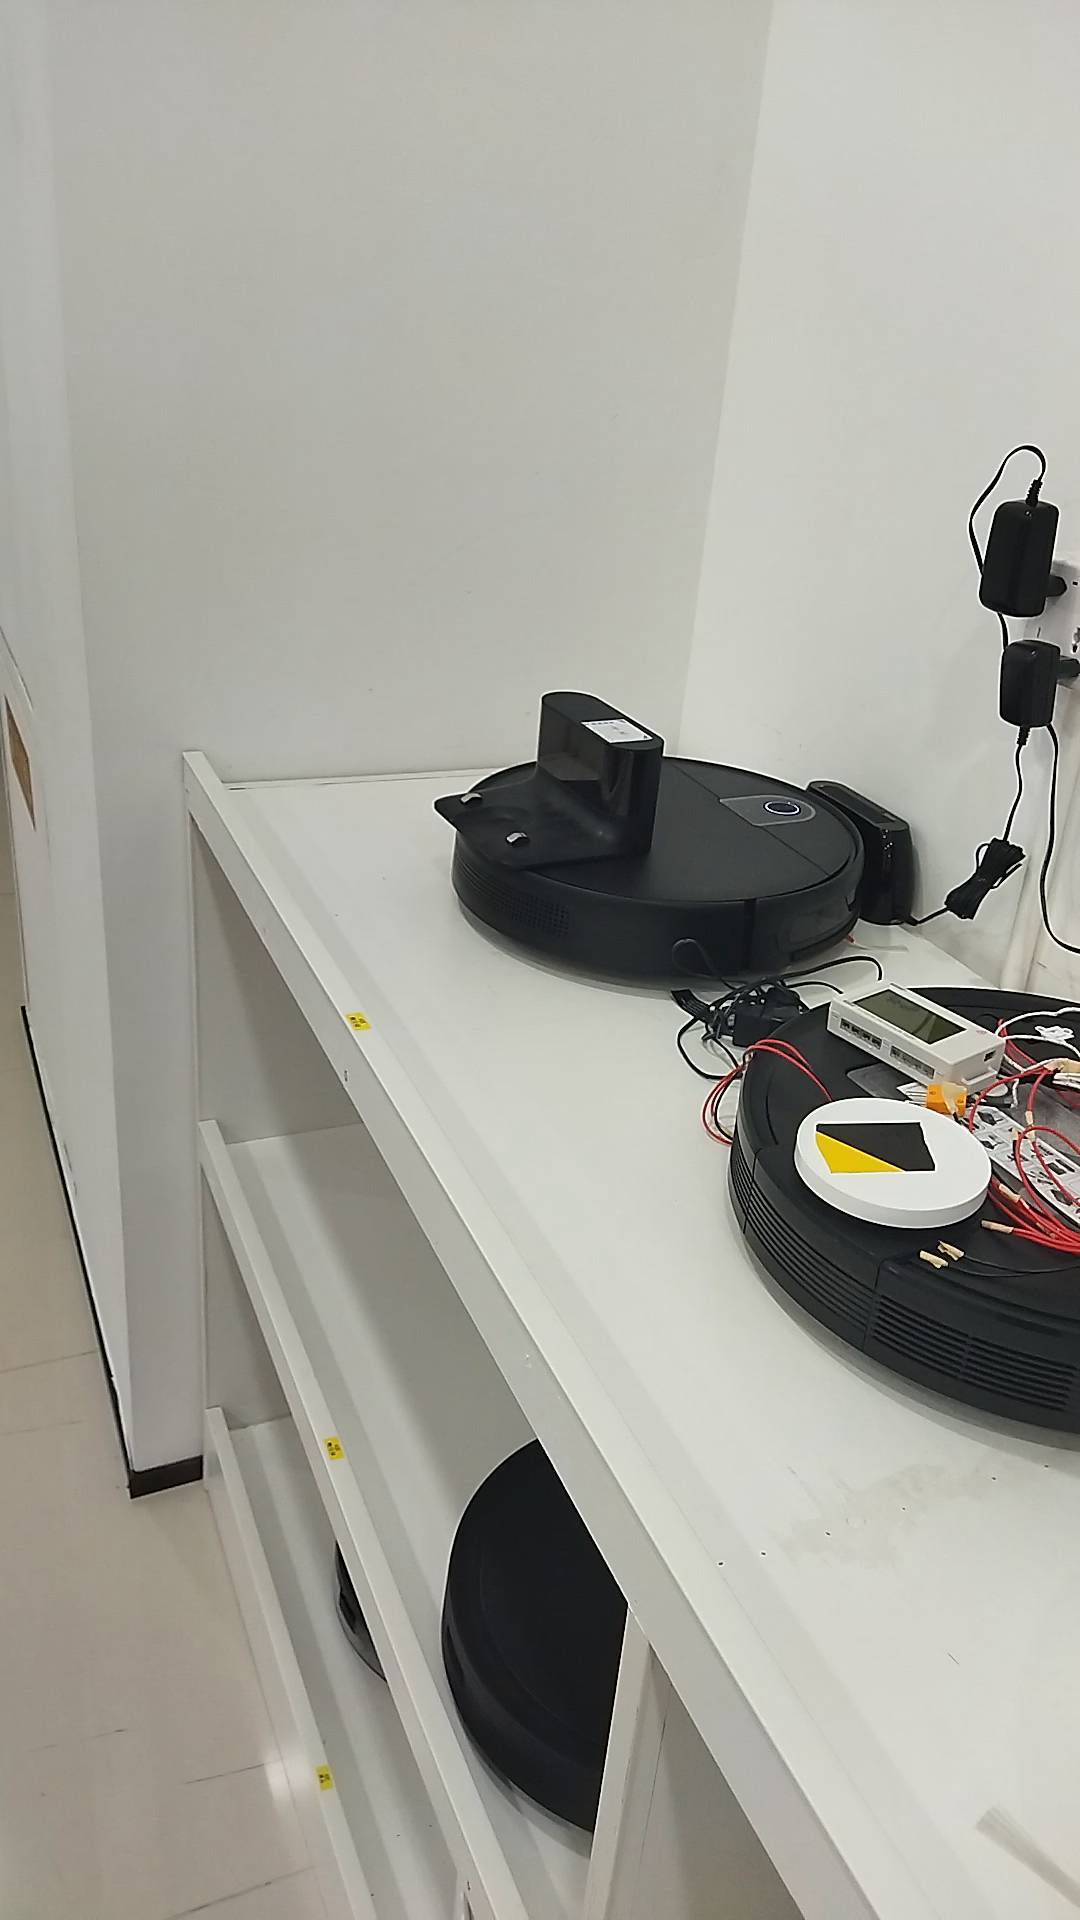recharge seat: (435, 690, 663, 877)
